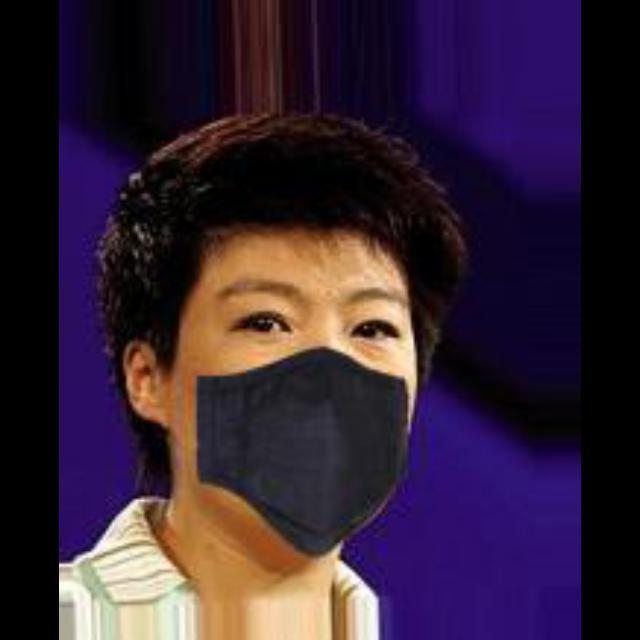suspicion: (72, 47, 468, 601)
